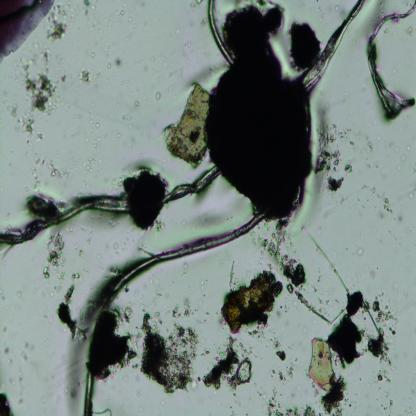Background material: (200, 2, 313, 223), (132, 302, 203, 400), (162, 78, 212, 171), (13, 50, 65, 138), (86, 304, 136, 384), (222, 272, 283, 337), (257, 217, 306, 297), (120, 165, 170, 233), (200, 333, 251, 396), (308, 333, 346, 416), (304, 227, 348, 296), (317, 115, 353, 198), (332, 284, 366, 366), (63, 336, 89, 416), (56, 284, 88, 341), (288, 19, 321, 70), (22, 188, 64, 226), (43, 227, 70, 282), (297, 294, 336, 326), (268, 334, 294, 382), (27, 149, 63, 183), (265, 390, 312, 416), (366, 324, 394, 366), (359, 183, 393, 217), (365, 300, 399, 334), (49, 7, 71, 44), (89, 118, 103, 161), (0, 387, 15, 416), (376, 366, 396, 385), (276, 301, 292, 319), (364, 137, 374, 161), (78, 70, 90, 88), (62, 387, 79, 399), (18, 365, 23, 403), (188, 0, 204, 11), (198, 276, 208, 293), (74, 244, 84, 259), (386, 398, 393, 416), (368, 267, 378, 279), (155, 288, 164, 301), (83, 0, 89, 19), (356, 244, 364, 257), (70, 271, 80, 281), (114, 56, 122, 68), (84, 162, 92, 174), (3, 345, 11, 356), (406, 24, 412, 38), (132, 98, 140, 108), (66, 227, 76, 235), (401, 152, 408, 163), (15, 290, 24, 298), (402, 291, 408, 303), (407, 192, 415, 200), (120, 8, 126, 18), (24, 341, 30, 351), (89, 51, 95, 60), (107, 62, 112, 72), (156, 90, 160, 102), (348, 401, 354, 408), (114, 242, 119, 250), (398, 214, 403, 222), (406, 145, 411, 152), (24, 353, 28, 361), (184, 263, 188, 269)
Cellulose filter fibre: (0, 162, 218, 244), (365, 1, 416, 123), (304, 1, 364, 90)
Microfibre: (84, 208, 263, 414), (206, 1, 236, 67)
Pen: (0, 0, 55, 61)
